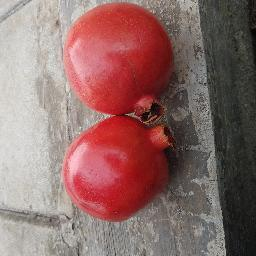Good_pomegranate: (61, 6, 179, 120), (72, 103, 179, 220)
